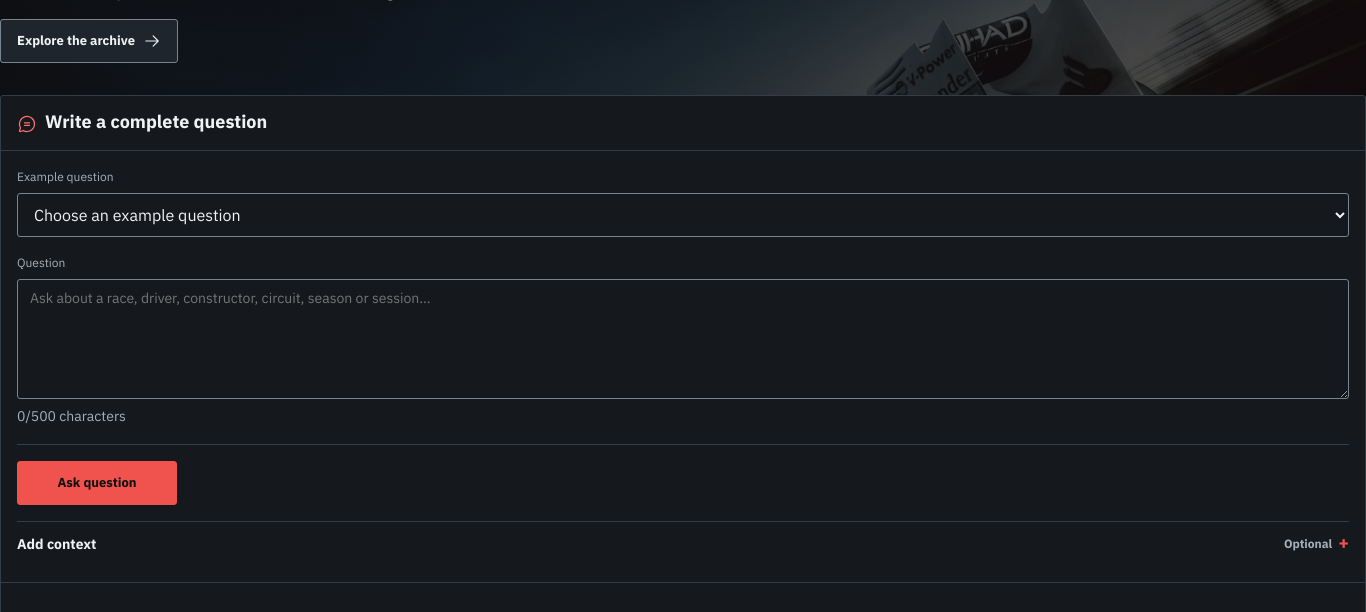
Test: question form toggles to an answer result and resets to the form
The width and height of the screenshot is (1366, 612).
Type "How many wins?" into the text box labelled "Question" at (683, 339), box [17,279,1349,399]
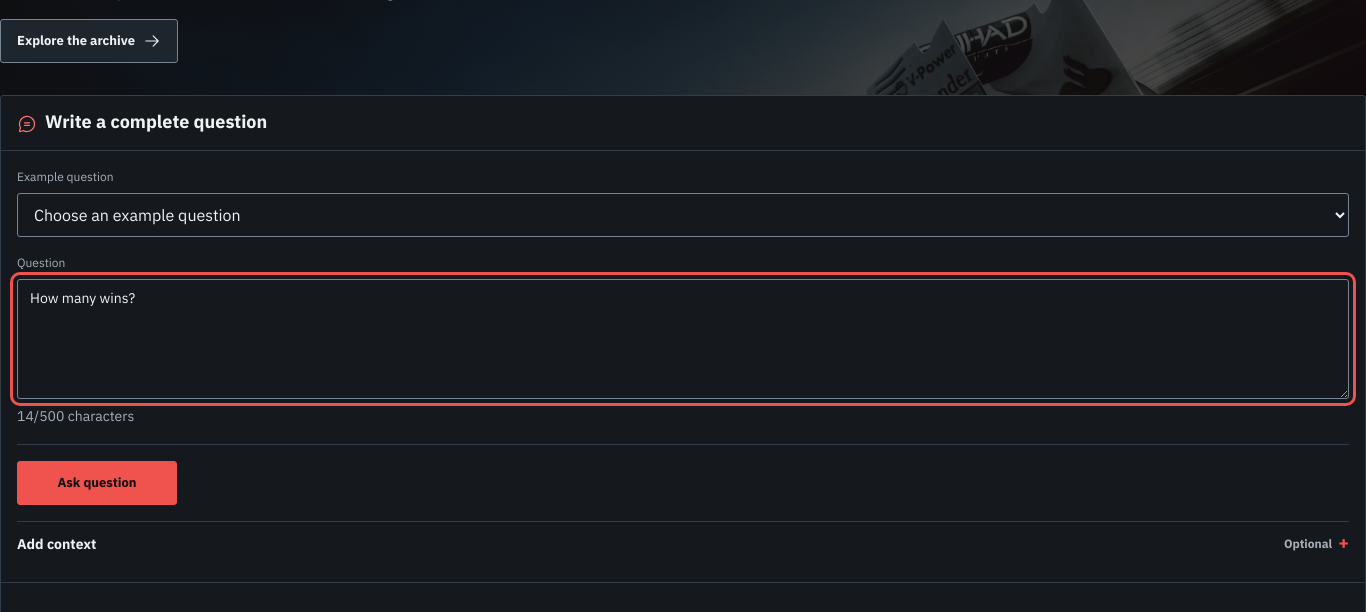
Check: the field labelled "Season year" is not shown
Click the text "Add context" at (57, 544), box [17,533,96,556]
(page scrolled)
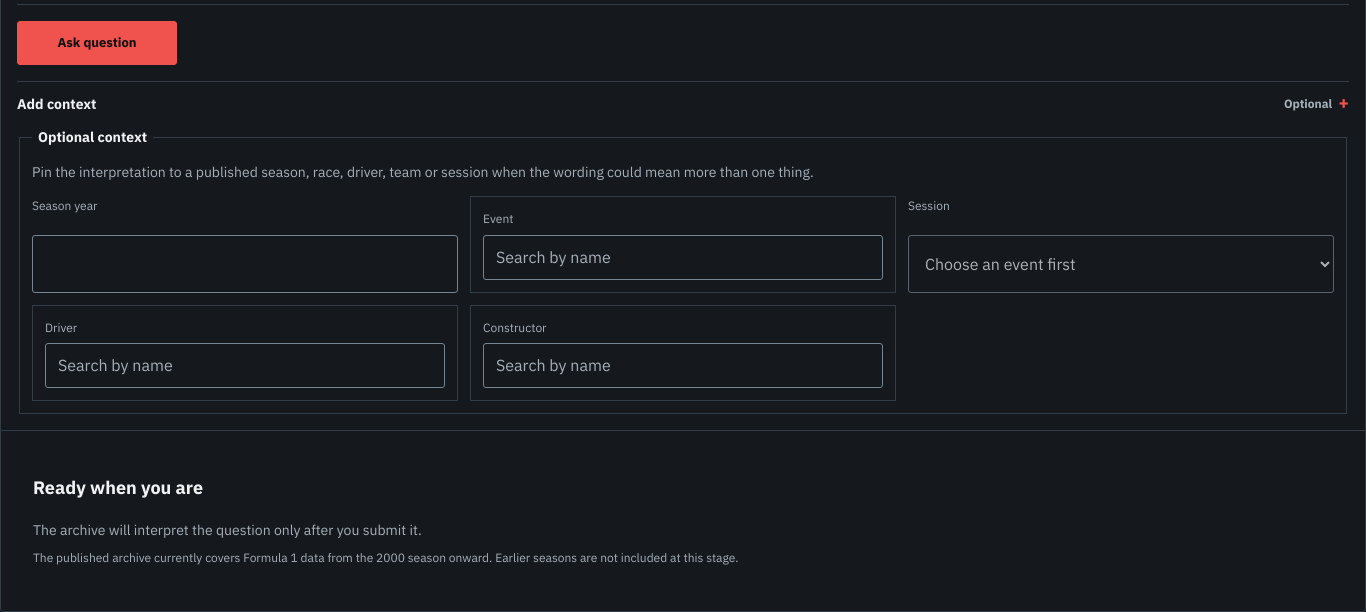
Type "2024" into the number field labelled "Season year" at (245, 264), box [32,235,458,292]
Type "Example" into the dropdown labelled "Driver" at (245, 366), box [45,343,445,388]
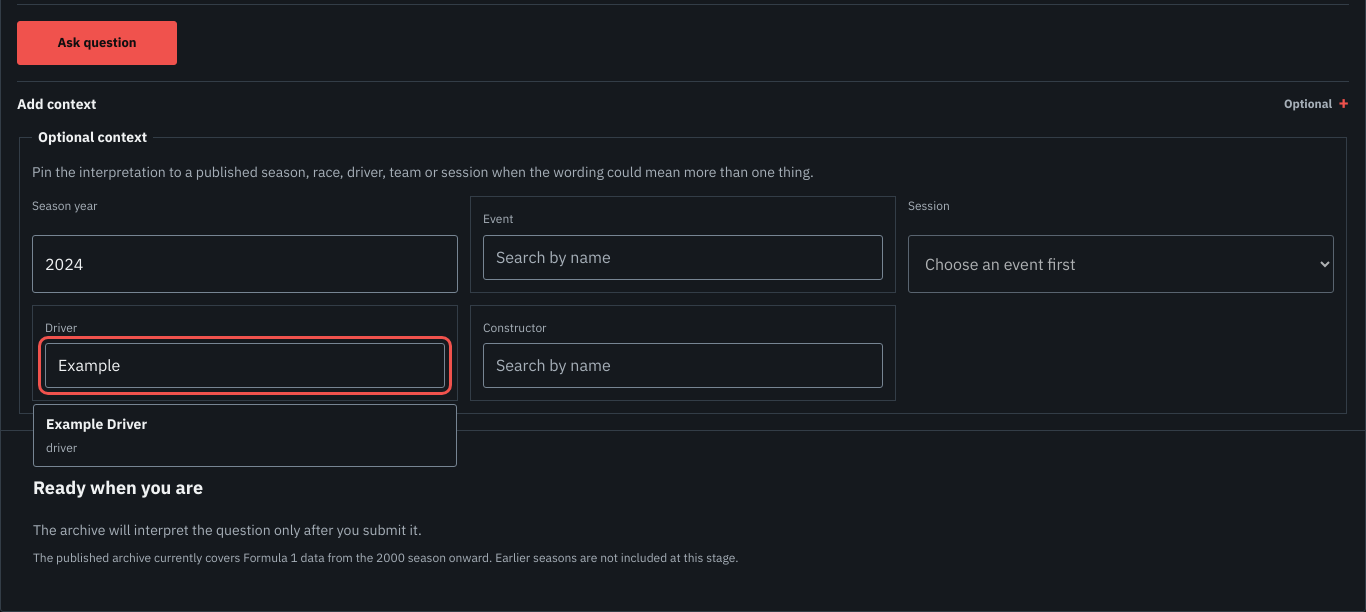
Click the option "Example Driver driver" at (97, 424), box [34,405,456,466]
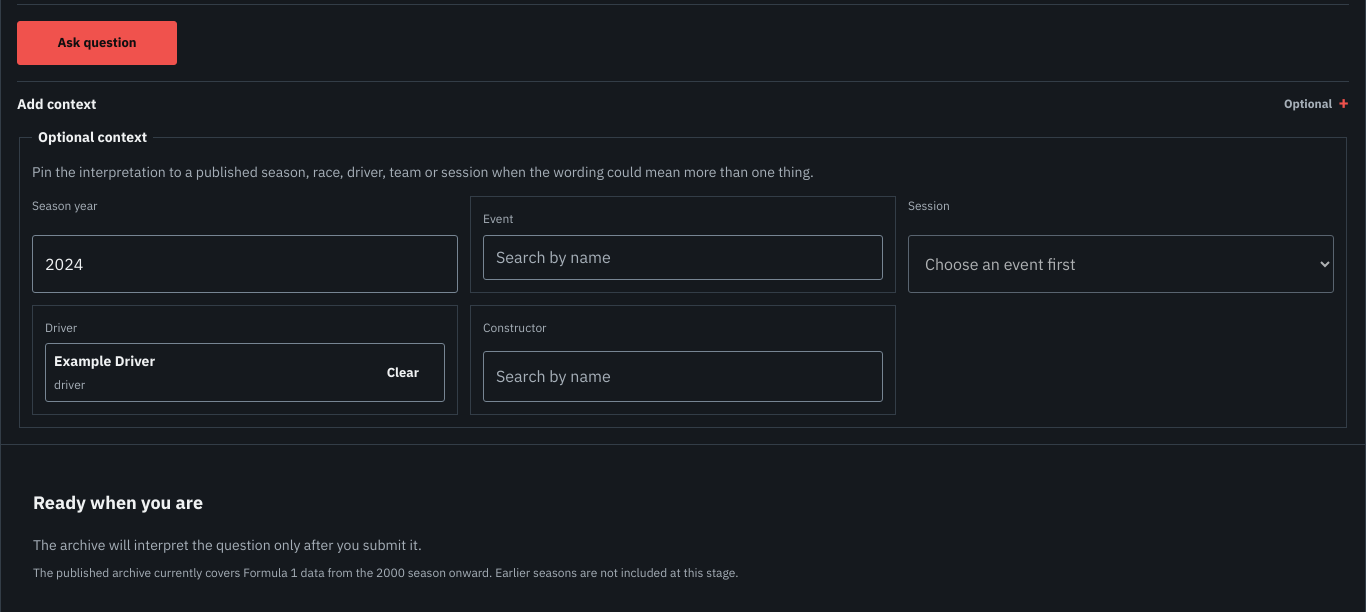
Click the button "Ask question" at (97, 43), box [17,21,177,65]
(page scrolled)
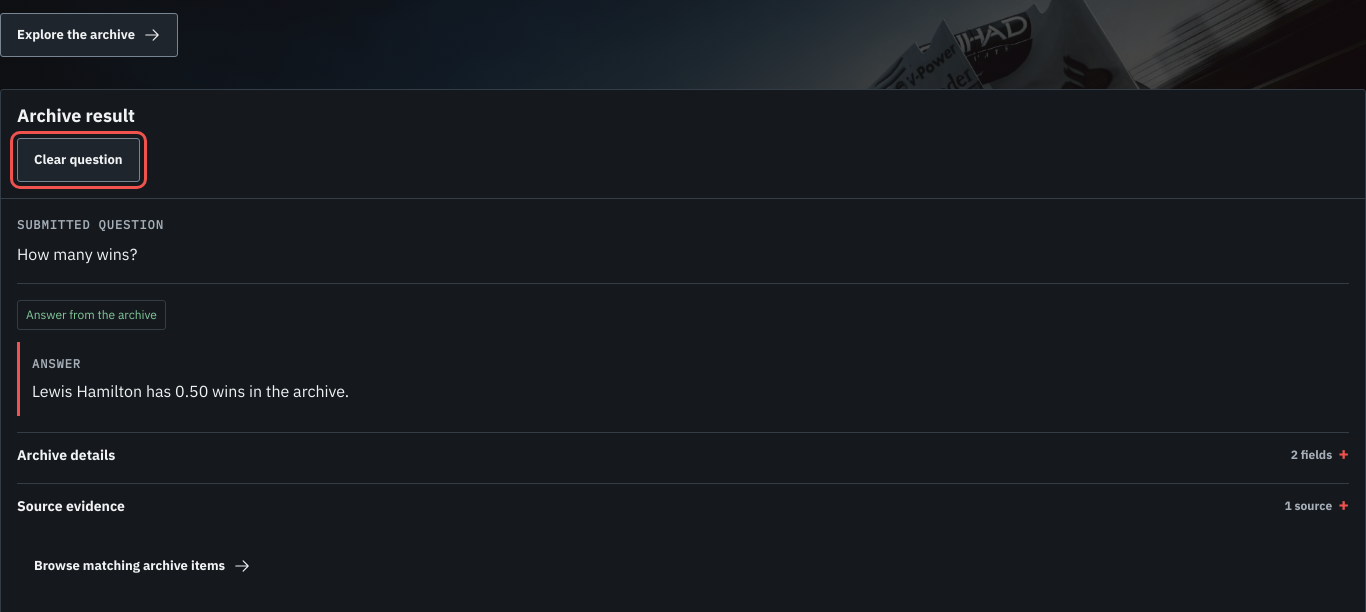
Check: the text "Lewis Hamilton has 0.50 wins in the archive." is shown, box [32,381,349,401]
Check: the button "Clear question" is shown, box [17,138,140,182]
Check: the heading "Archive result" is shown, box [17,106,135,126]
Press Enter
(page scrolled)
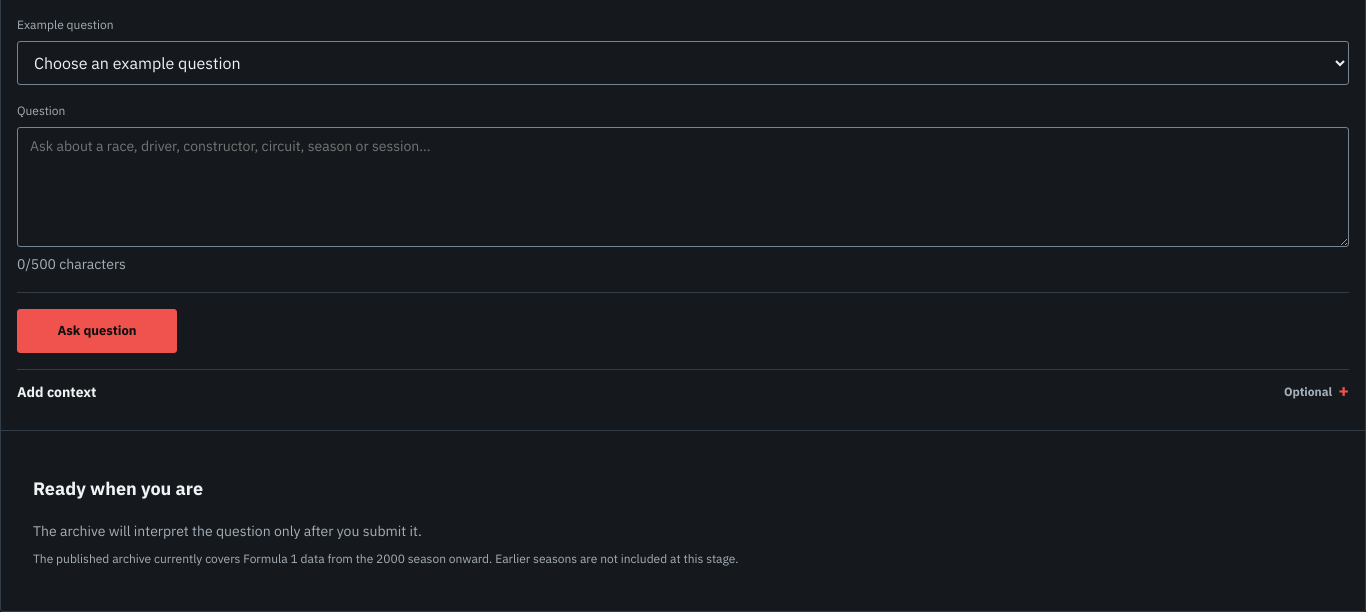
Check: the text box labelled "Question" is empty, box [17,127,1349,247]
Check: the dropdown labelled "Example question" shows "Choose an example question", box [17,41,1349,85]
Check: the text "Lewis Hamilton has 0.50 wins in the archive." is gone
